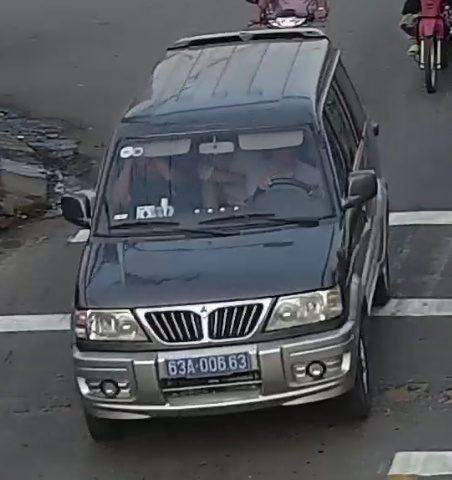vehicle plate: (163, 350, 253, 379)
